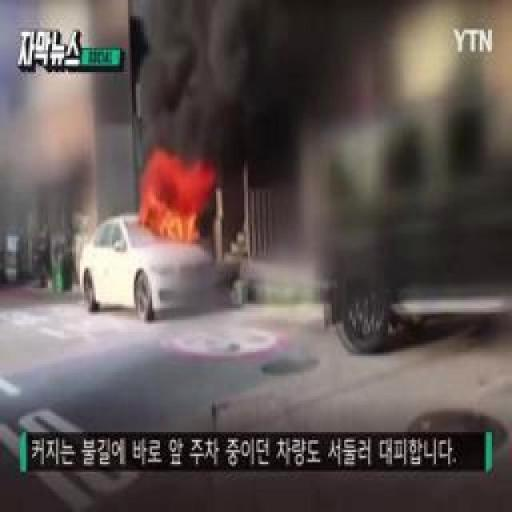smoke: (142, 167, 208, 244)
